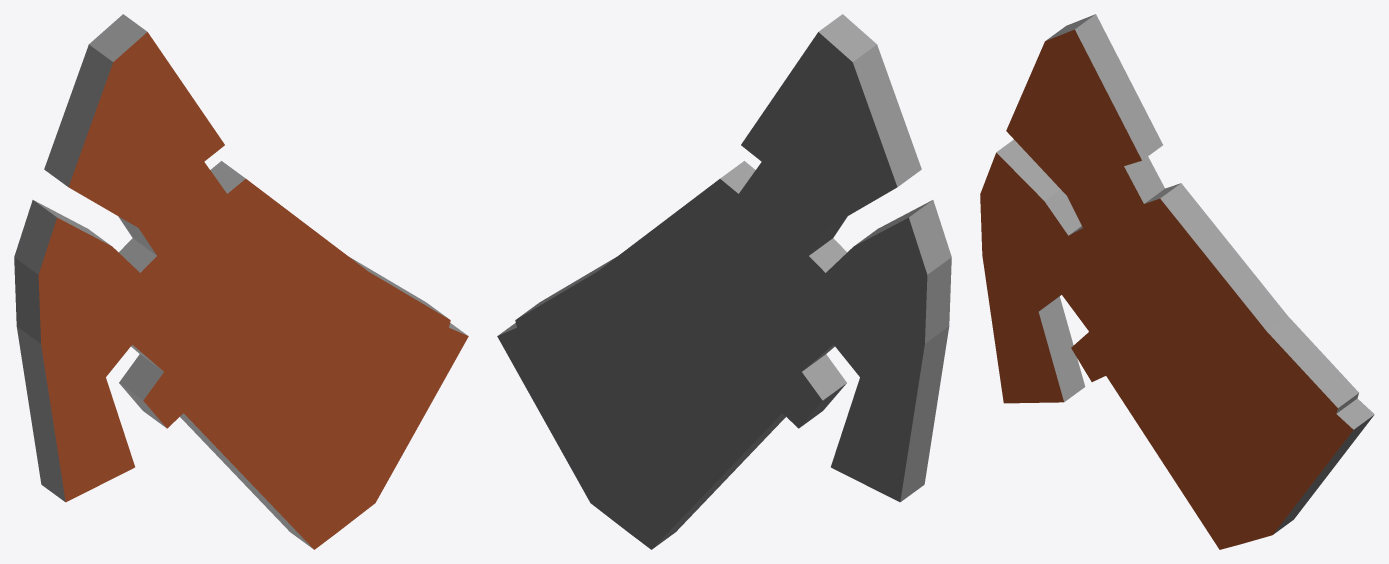
Rendered from construction_4705_assumed_A_Casa_h6m.obj.
3 views of the same model, side by side, from view 1: azimuth 30°, elevation 25°; view 2: azimuth 150°, elevation 25°; view 3: azimuth 330°, elevation 25° (orthographic). The views are drawn at different scales.
Visible parts, largest first — view 1: construction_4705_assumed_A_Casa; view 2: construction_4705_assumed_A_Casa; view 3: construction_4705_assumed_A_Casa.
Boxes of the visible parts, bbox=[...] form: construction_4705_assumed_A_Casa: bbox=[14, 14, 468, 549]; construction_4705_assumed_A_Casa: bbox=[497, 14, 951, 549]; construction_4705_assumed_A_Casa: bbox=[980, 14, 1374, 549].
Size of the model in its own units: 61.1 by 75.84 by 6.
